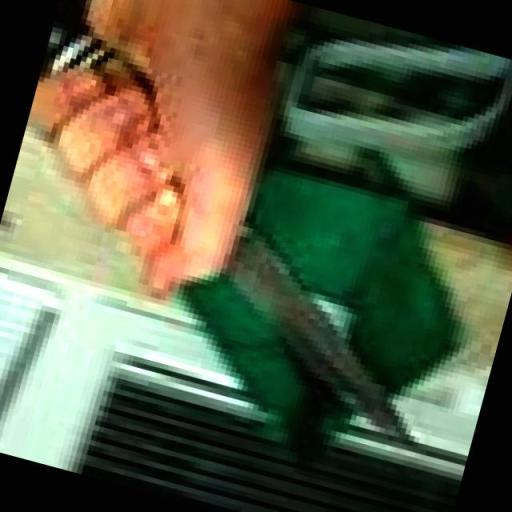knife: (126, 206, 471, 464)
